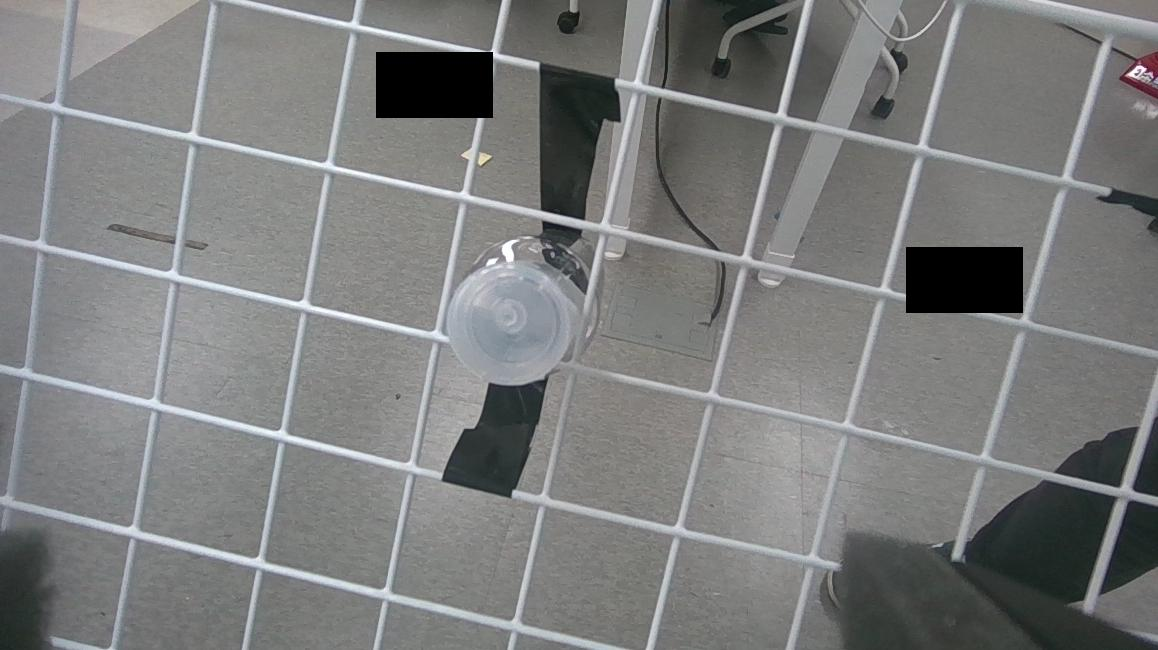Cap: (444, 261, 572, 389)
